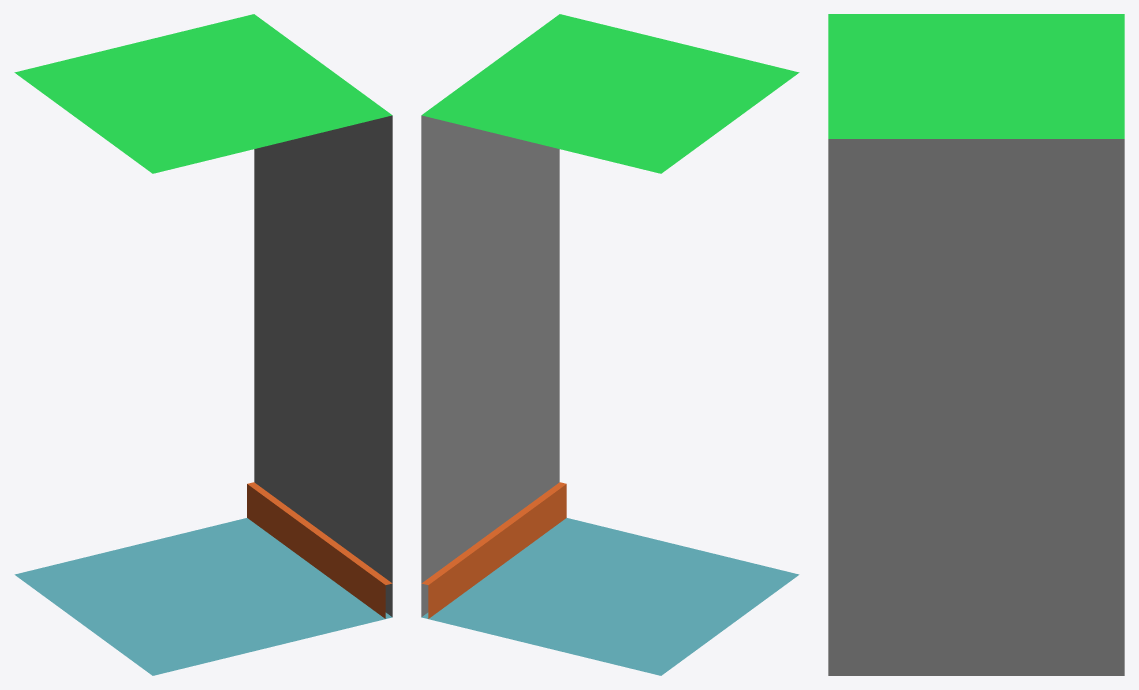
File: ModuleB_side3.FBX
3 renders of one model, left to right at view 1: azimuth 30°, elevation 25°; view 2: azimuth 150°, elevation 25°; view 3: azimuth 270°, elevation 25°, orthographic. The views are drawn at different scales.
Parts seen in each view (by area): view 1: ModuleB_wall_010, ModuleB_roofA, ModuleB_roof_013, ModuleB_floorA, ModuleB_floor_011, ModuleB_skboard_012; view 2: ModuleB_wall_010, ModuleB_roofA, ModuleB_roof_013, ModuleB_floorA, ModuleB_floor_011, ModuleB_skboard_012; view 3: ModuleB_wall_010, ModuleB_roof_013, ModuleB_roofA.
Boxes of the visible parts, x1,y1,x2,y2 form: ModuleB_wall_010: (254,115,392,616); ModuleB_roofA: (14,43,272,173); ModuleB_roof_013: (134,14,392,144); ModuleB_floorA: (14,545,272,675); ModuleB_floor_011: (134,518,392,646); ModuleB_skboard_012: (247,482,392,618); ModuleB_wall_010: (421,115,559,616); ModuleB_roofA: (541,43,799,173); ModuleB_roof_013: (421,14,679,144); ModuleB_floorA: (541,545,799,675); ModuleB_floor_011: (421,518,679,646); ModuleB_skboard_012: (421,482,566,618); ModuleB_wall_010: (828,139,1124,675); ModuleB_roof_013: (828,76,1124,138); ModuleB_roofA: (828,14,1124,76).
Size of the model in its own units: 39.37 by 39.37 by 78.74.
